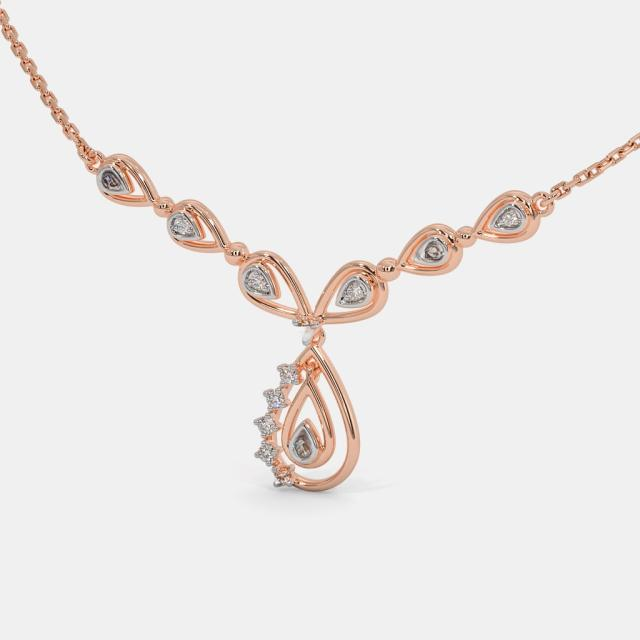missing gem: (411, 237, 450, 267), (292, 425, 315, 461), (97, 168, 128, 192), (276, 469, 293, 484)
